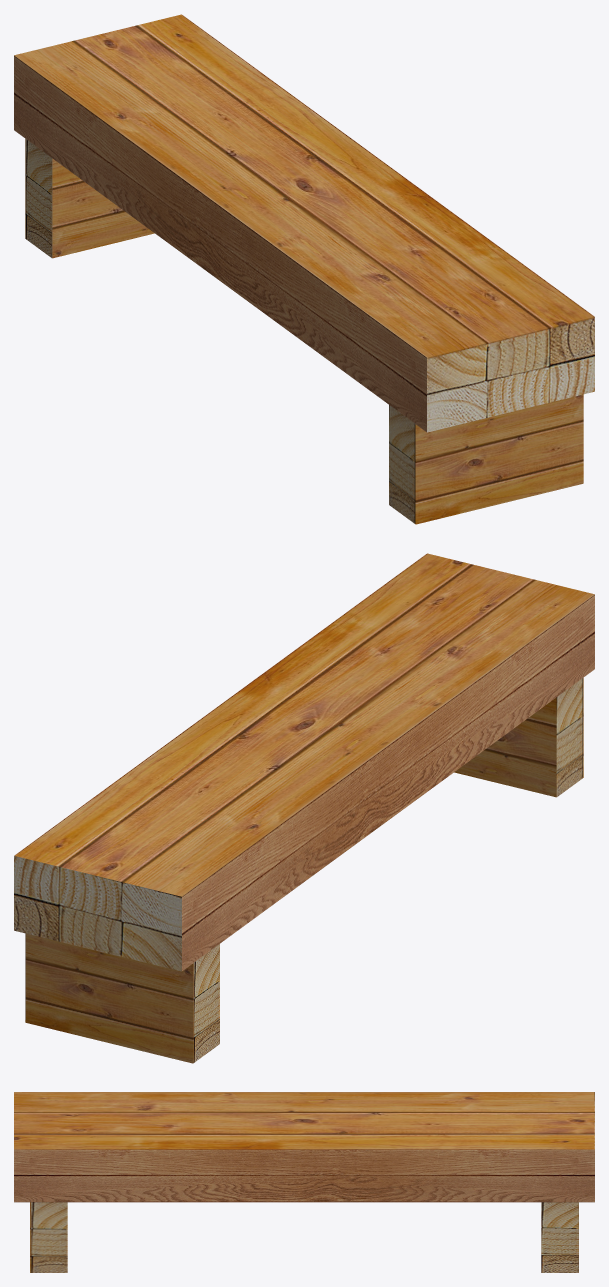
File: Bench 1.fbx
The picture shows the model from 3 angles, top to bottom: view 1: azimuth 30°, elevation 25°; view 2: azimuth 150°, elevation 25°; view 3: azimuth 270°, elevation 25°; orthographic projection. The views are drawn at different scales.
Visible parts, largest first — view 1: bench; view 2: bench; view 3: bench.
Part boxes in pixels (box(x1,y1,x2,y2)): bench: box(14, 14, 594, 524); bench: box(14, 553, 594, 1063); bench: box(14, 1092, 594, 1272).
Bounding box in the file's own units: 0.4692 × 0.4678 × 2.
